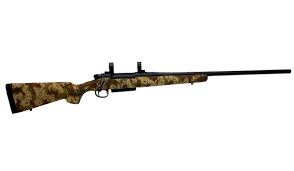gun: (5, 59, 294, 114)
